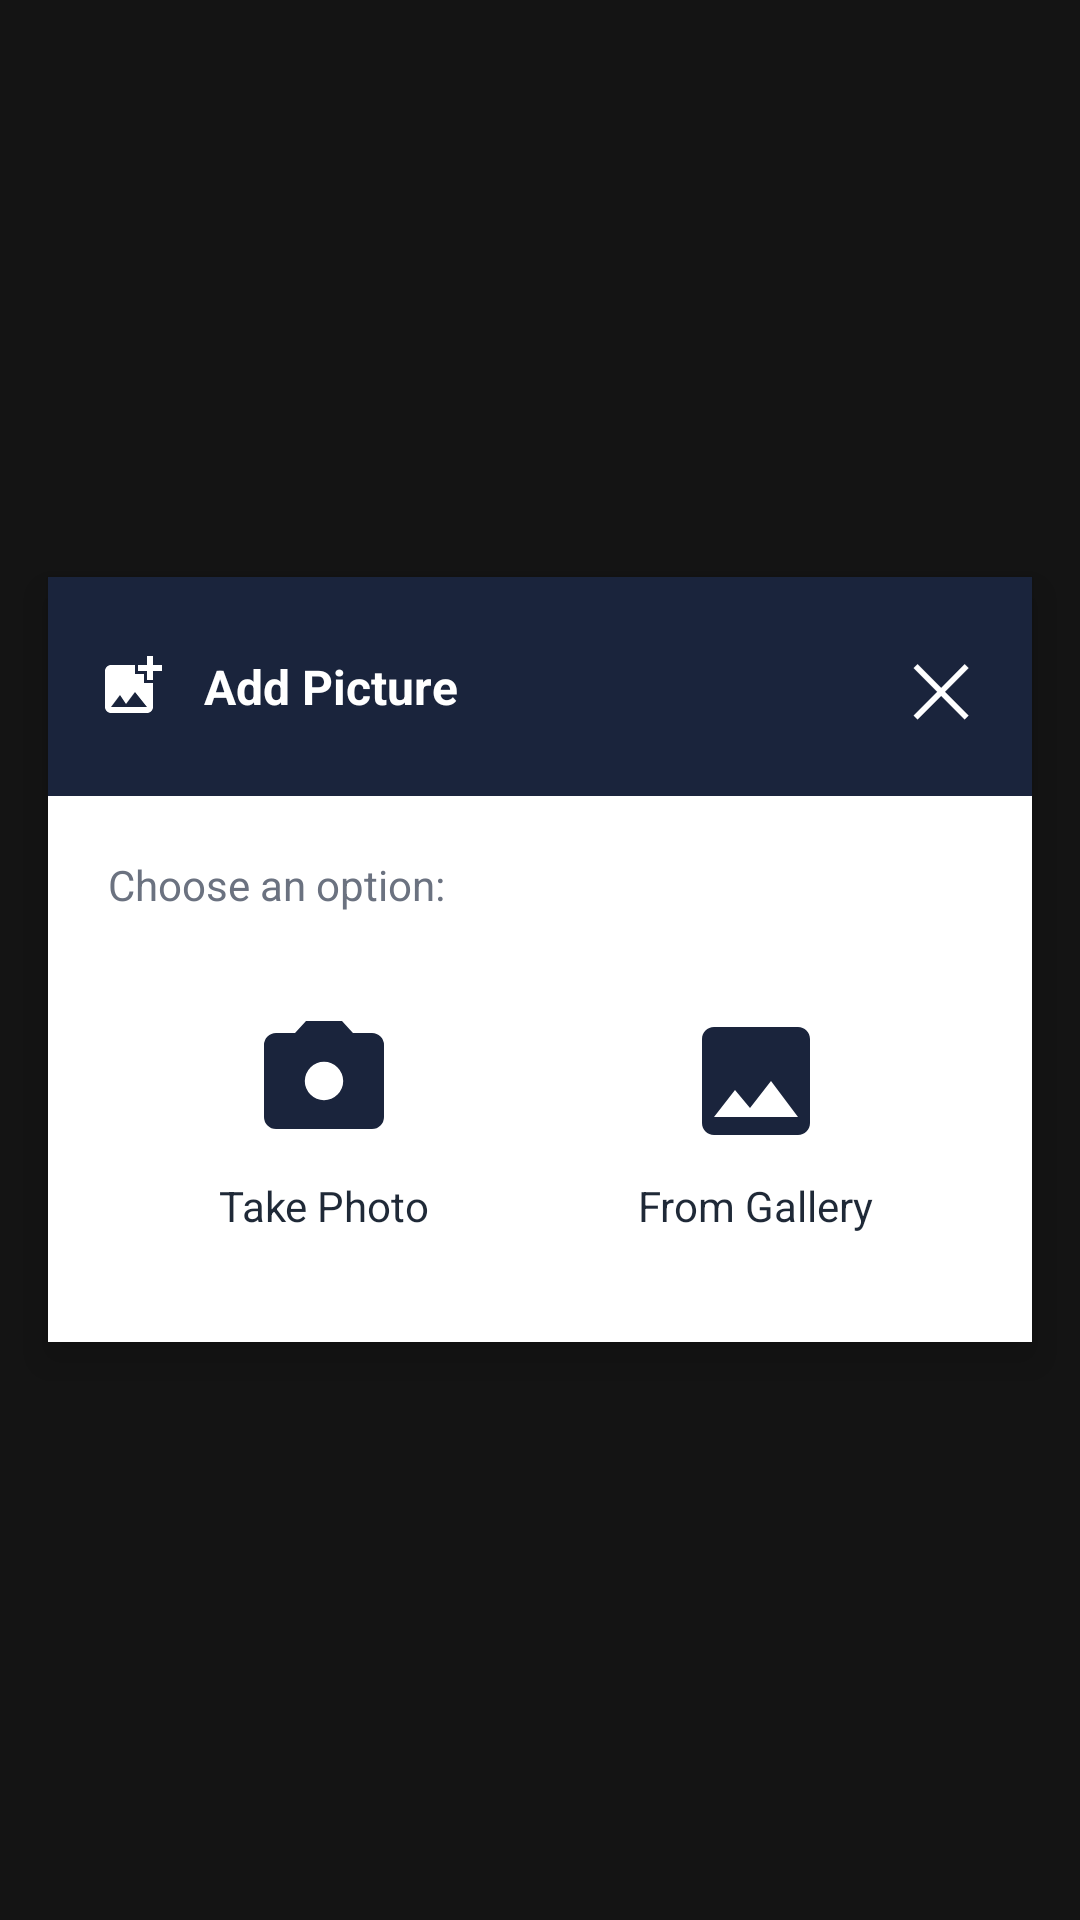

Named icons in this screenshot (1080w x 1920h) and their bounding boxes, {"left": x1, "top": y1, "right": x2, "bottom": y2}:
camera: {"left": 264, "top": 1021, "right": 384, "bottom": 1129}
